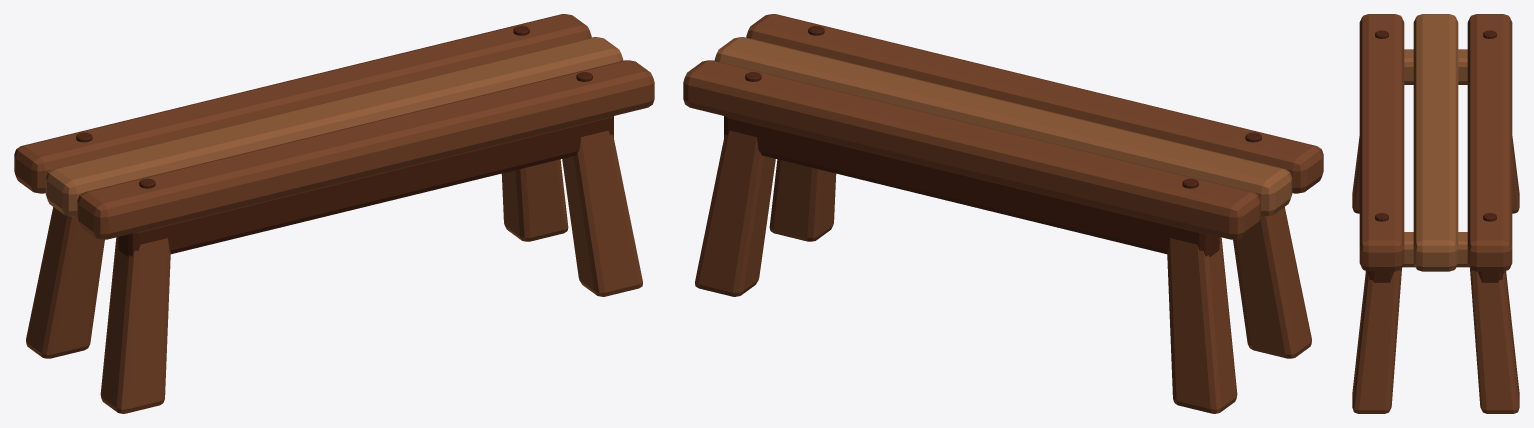
File: WoodenBench.glb
The picture shows the model from 3 angles, left to right: view 1: azimuth 30°, elevation 25°; view 2: azimuth 150°, elevation 25°; view 3: azimuth 270°, elevation 25°; orthographic projection. The views are drawn at different scales.
Visible parts, largest first — view 1: WoodenBench_SeatSlatFront, WoodenBench_SeatSlatCenter, WoodenBench_SeatSlatBack, WoodenBench_SupportRailFront, WoodenBench_LegFrontLeft, WoodenBench_LegFrontRight, WoodenBench_LegBackLeft, WoodenBench_LegBackRight; view 2: WoodenBench_SeatSlatBack, WoodenBench_SeatSlatCenter, WoodenBench_SeatSlatFront, WoodenBench_SupportRailBack, WoodenBench_LegBackLeft, WoodenBench_LegBackRight, WoodenBench_LegFrontLeft, WoodenBench_LegFrontRight; view 3: WoodenBench_SeatSlatCenter, WoodenBench_SeatSlatFront, WoodenBench_SeatSlatBack, WoodenBench_LegFrontRight, WoodenBench_LegBackRight, WoodenBench_EndBraceRight, WoodenBench_EndBraceLeft, WoodenBench_LegFrontLeft, WoodenBench_LegBackLeft, WoodenBench_SupportRailFront, WoodenBench_SupportRailBack.
Part boxes in pixels (x1,y1,x2,y2): WoodenBench_SeatSlatFront: (77,60,654,239); WoodenBench_SeatSlatCenter: (45,37,623,216); WoodenBench_SeatSlatBack: (14,14,591,193); WoodenBench_SupportRailFront: (118,116,613,256); WoodenBench_LegFrontLeft: (100,237,170,413); WoodenBench_LegFrontRight: (562,130,642,296); WoodenBench_LegBackLeft: (26,207,104,358); WoodenBench_LegBackRight: (501,159,568,241); WoodenBench_SeatSlatBack: (683,60,1260,239); WoodenBench_SeatSlatCenter: (714,37,1292,216); WoodenBench_SeatSlatFront: (746,14,1323,193); WoodenBench_SupportRailBack: (724,116,1219,256); WoodenBench_LegBackLeft: (1167,237,1237,413); WoodenBench_LegBackRight: (695,130,775,296); WoodenBench_LegFrontLeft: (1233,207,1311,358); WoodenBench_LegFrontRight: (769,159,836,241); WoodenBench_SeatSlatCenter: (1413,14,1458,271); WoodenBench_SeatSlatFront: (1359,14,1404,271); WoodenBench_SeatSlatBack: (1467,14,1512,271); WoodenBench_LegFrontRight: (1352,269,1401,413); WoodenBench_LegBackRight: (1470,269,1519,413); WoodenBench_EndBraceRight: (1402,232,1469,267); WoodenBench_EndBraceLeft: (1404,49,1467,84); WoodenBench_LegFrontLeft: (1352,136,1359,213); WoodenBench_LegBackLeft: (1512,136,1519,213); WoodenBench_SupportRailFront: (1367,271,1393,282); WoodenBench_SupportRailBack: (1478,271,1504,282).
Bounding box in the file's own units: 2.1 × 0.763 × 0.6348.
